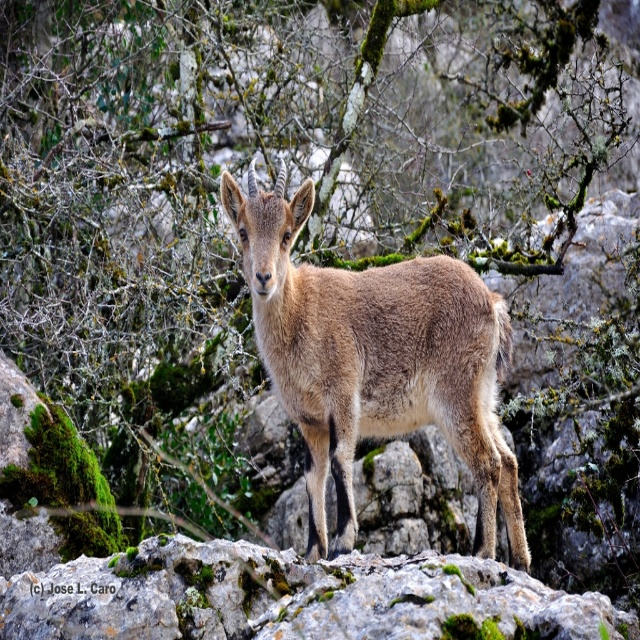Goat: (220, 157, 532, 576)
